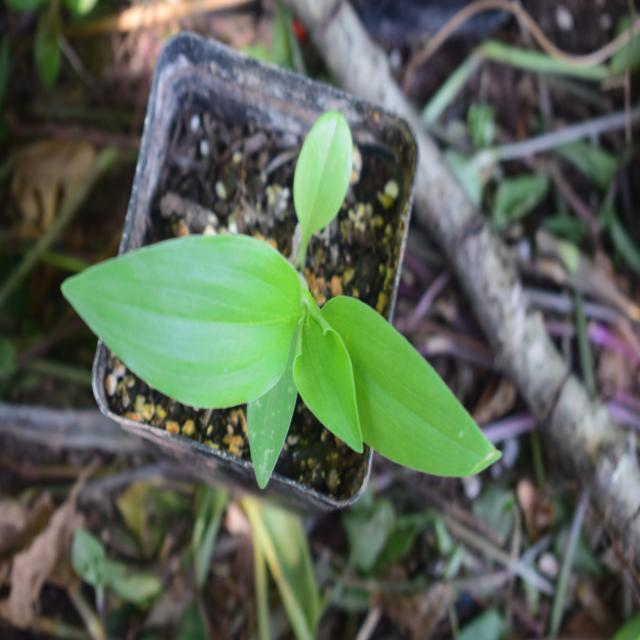Common Dayflower: (73, 210, 505, 492)
